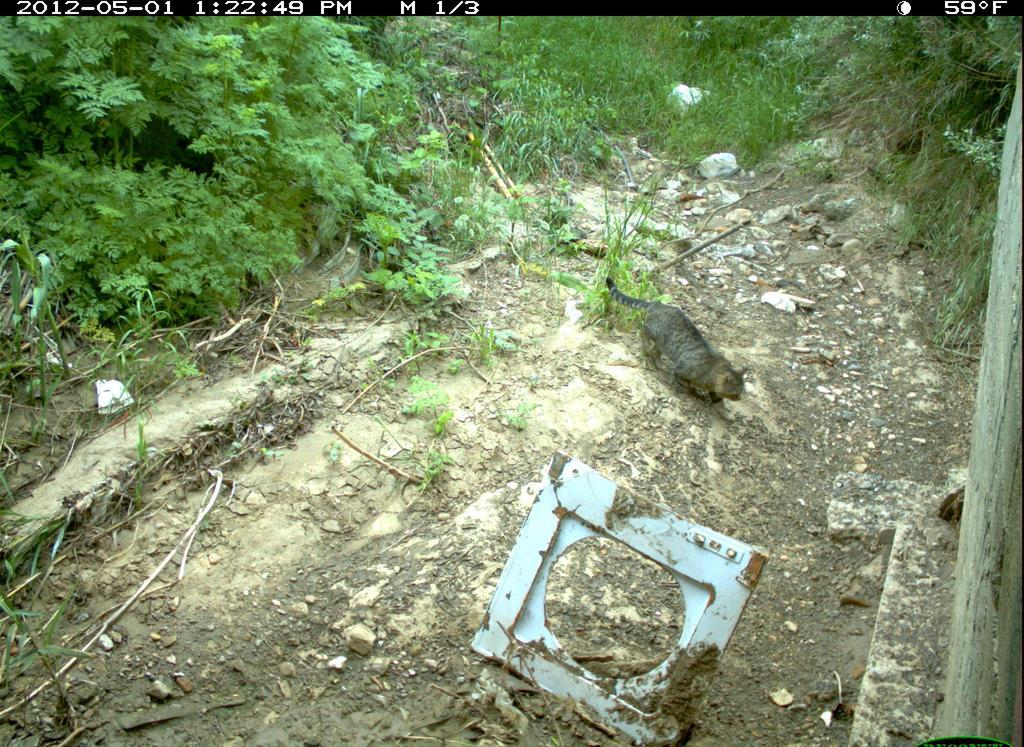cat: (602, 272, 749, 414)
